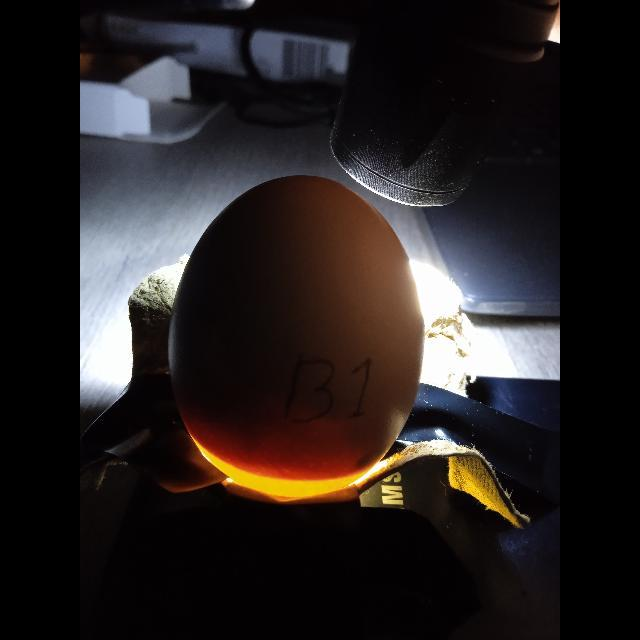Fertile: (161, 178, 423, 508)
